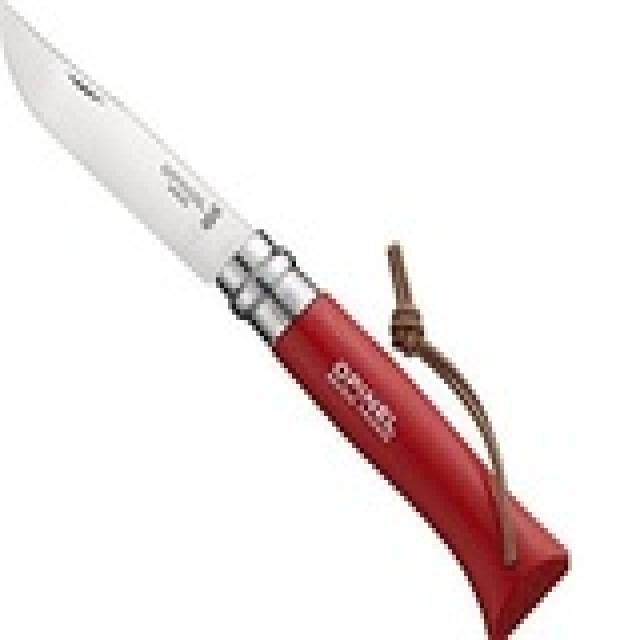Knife: (5, 5, 562, 633)
